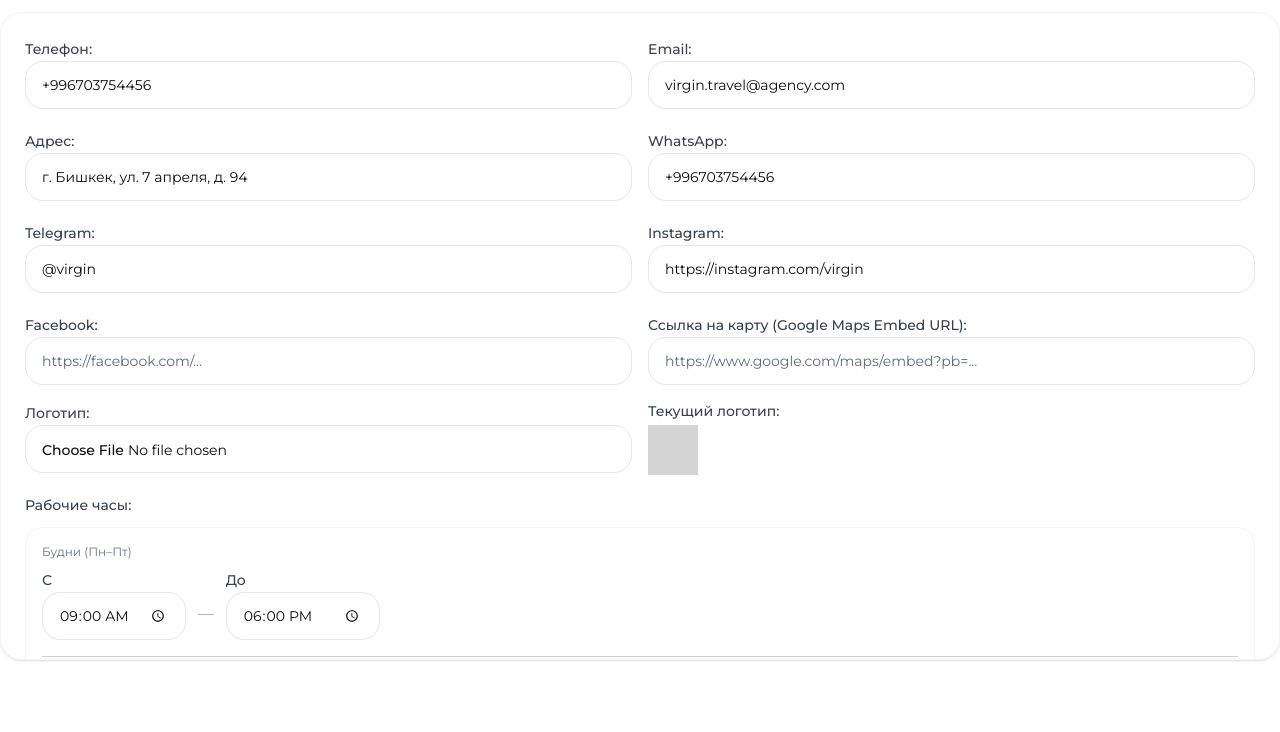
Test: ContactSettingsForm › валидация › отклоняет whatsapp в неверном формате
Replace the text in the field below "WhatsApp:" with "12345": (952, 177) x1=648 y1=153 x2=1255 y2=201
(page scrolled)
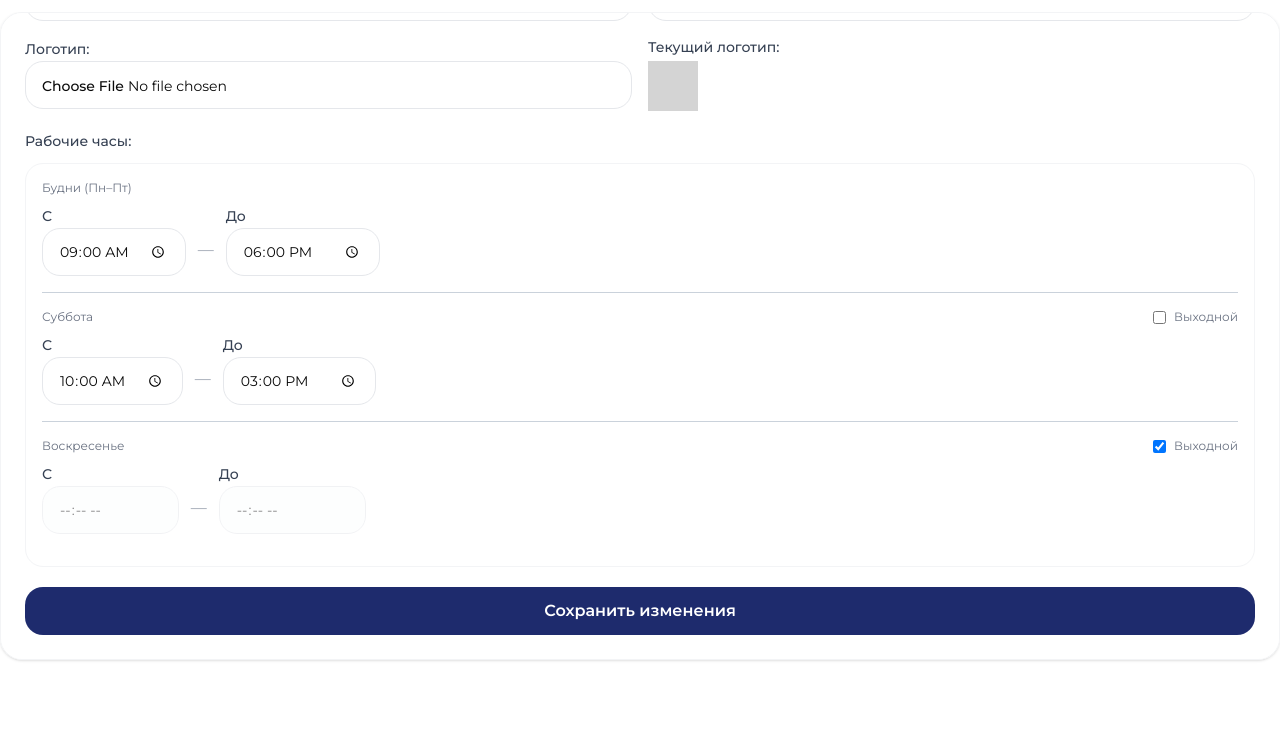
Click the button "Сохранить изменения": (640, 611) x1=25 y1=587 x2=1255 y2=635
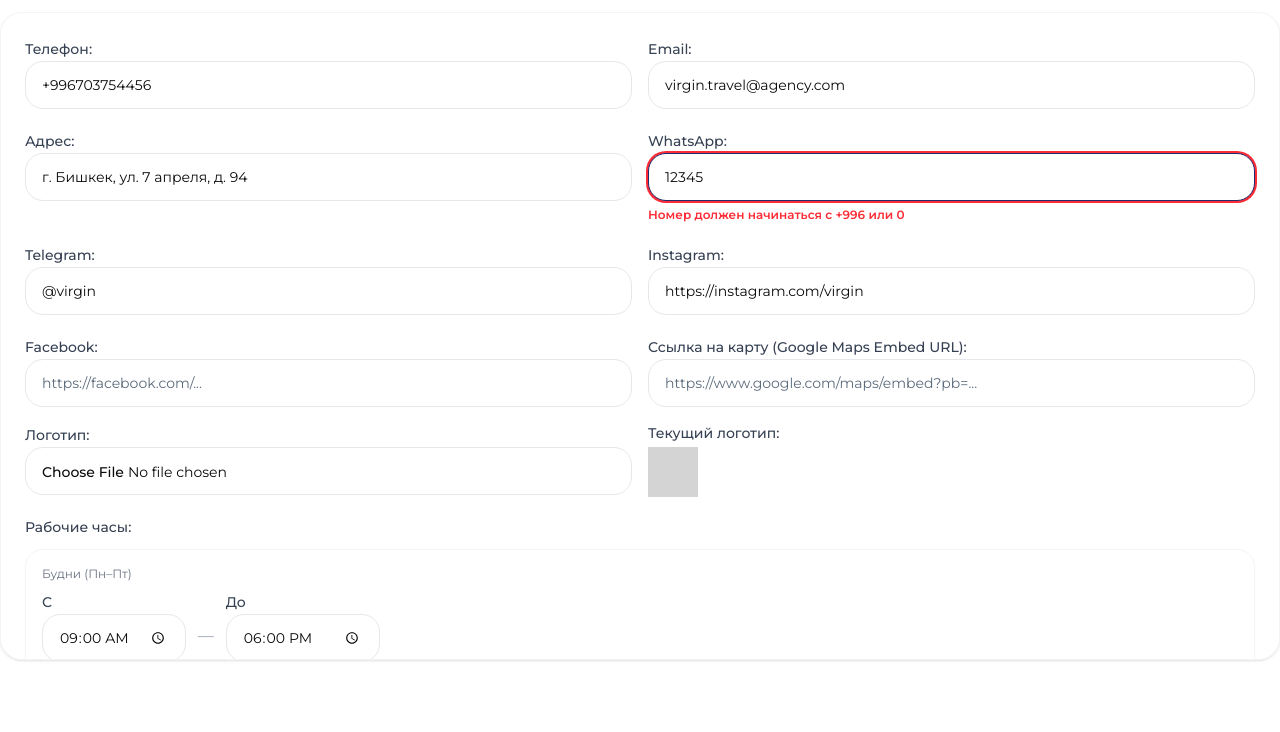
Expected: the text "Номер должен начинаться с +996 или 0" is shown, x1=648 y1=207 x2=904 y2=222
